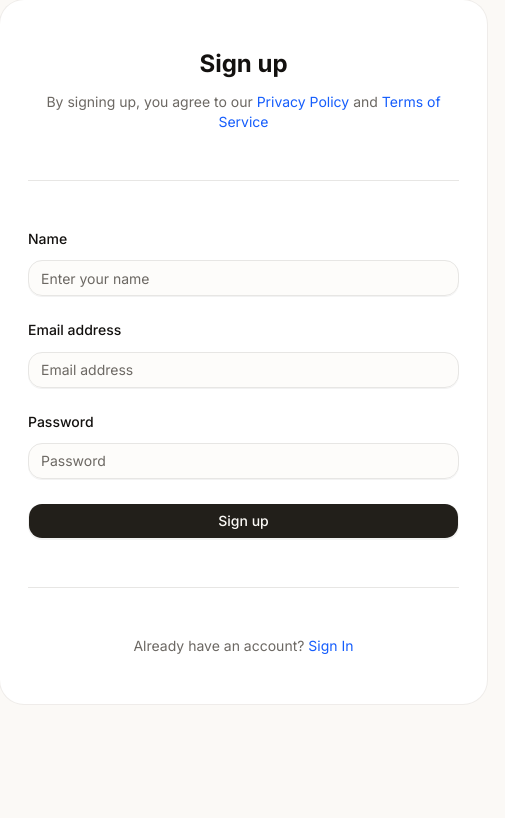
Test: SignUpCard component › shows validation error messages when submitting empty or invalid input
What coordinates should you click on to do the following:
click the button "Sign up"
I would click on:
 (244, 521)
Its box is [28,503,459,539].
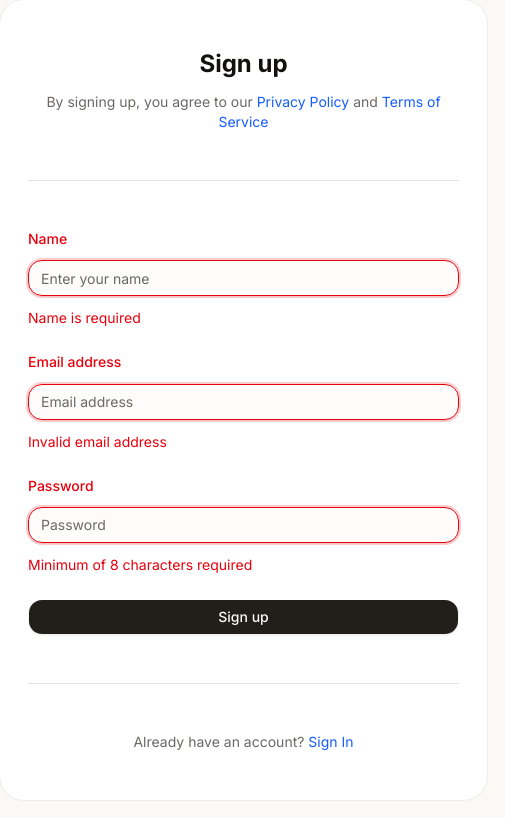
Expected: the text "Name is required" is shown, [28,309,141,326]
Expected: the text "Invalid email address" is shown, [28,432,167,450]
Expected: the text "Minimum of 8 characters required" is shown, [28,556,252,573]
